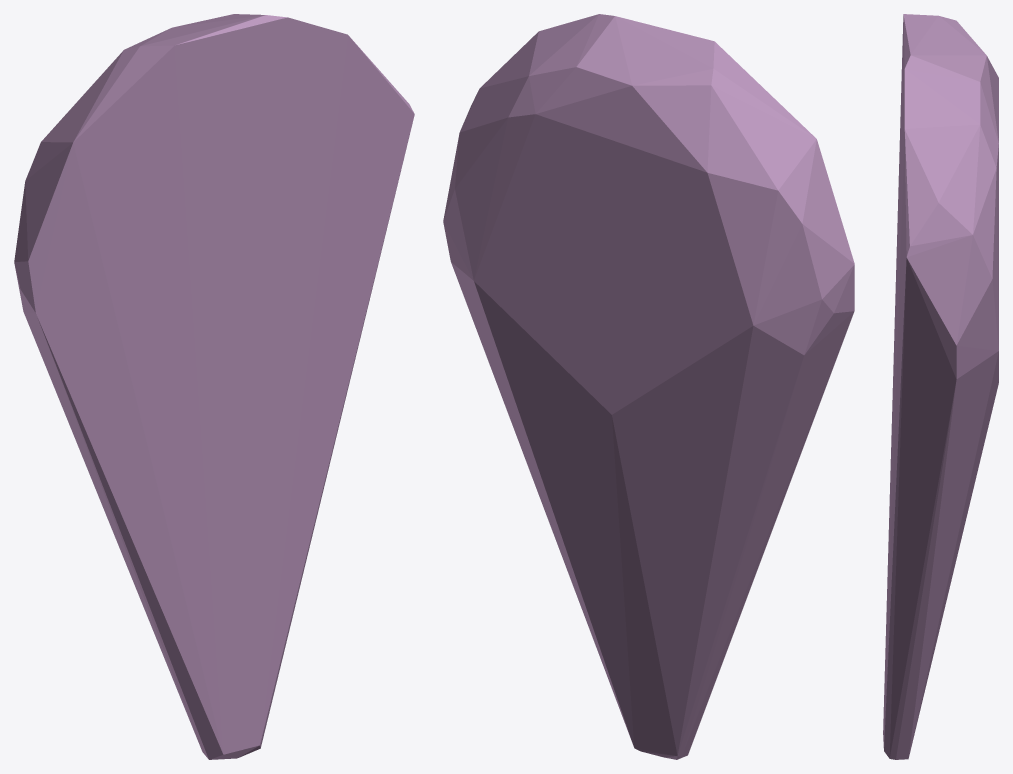
Rendered from kitchenware_pan_n01.glb.
The picture shows the model from 3 angles, left to right: view 1: azimuth 30°, elevation 25°; view 2: azimuth 150°, elevation 25°; view 3: azimuth 270°, elevation 25°; orthographic projection. The views are drawn at different scales.
Parts seen in each view (by area): view 1: geometry_0; view 2: geometry_0; view 3: geometry_0.
Part boxes in pixels (bbox=[...]): geometry_0: bbox=[14, 14, 414, 759]; geometry_0: bbox=[443, 14, 854, 759]; geometry_0: bbox=[883, 14, 998, 759].
Size of the model in its own units: 0.2644 by 0.4756 by 0.0698.
